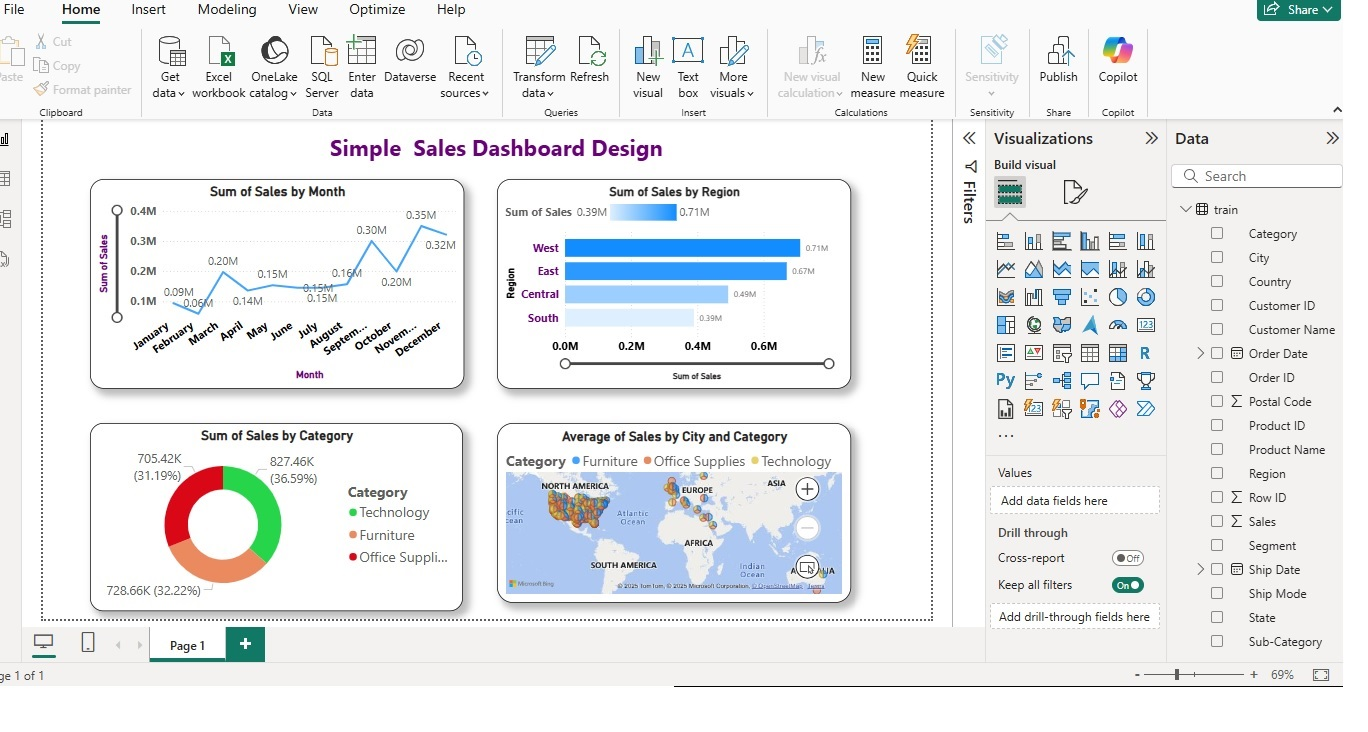

Layout of this report page (visuals, bound fields, positions):
{"tool":"powerbi","page":{"name":"Page 1","canvas":[1280,720],"ordinal":0},"visuals":[{"type":"lineChart","fields":{"Category":["train.Order Date.Variation.Date Hierarchy.Year","train.Order Date.Variation.Date Hierarchy.Quarter","train.Order Date.Variation.Date Hierarchy.Month","train.Order Date.Variation.Date Hierarchy.Day"],"Y":["train.Sales"]},"box":[67.7,86.4,538.6,302.4],"z":0},{"type":"clusteredBarChart","fields":{"Y":["train.Sales"],"Category":["train.Region"]},"box":[653.8,86.4,509.8,302.4],"z":1000},{"type":"donutChart","fields":{"Y":["train.Sales"],"Category":["train.Category"]},"box":[67.7,437.8,537.1,270.7],"z":2000},{"type":"textbox","box":[157,13,992.2,54.7],"z":3000},{"type":"map","fields":{"Category":["train.City"],"Series":["train.Category"],"Y":["train.Sales"]},"box":[653.8,437.8,509.8,259.2],"z":3001}]}

Visuals, with their boxes on the page's 1280x720 design canvas (x1, y1, x2, y2). These are canvas units, not pixel positions in the 1368x732 screenshot, which may show the page scaled, cropped or inside an application window:
lineChart - train.Order Date.Variation.Date Hierarchy.Year x train.Order Date.Variation.Date Hierarchy.Quarter: detection(68, 86, 606, 389)
clusteredBarChart - train.Sales x train.Region: detection(654, 86, 1164, 389)
donutChart - train.Sales x train.Category: detection(68, 438, 605, 708)
textbox: detection(157, 13, 1149, 68)
map - train.City x train.Category: detection(654, 438, 1164, 697)
